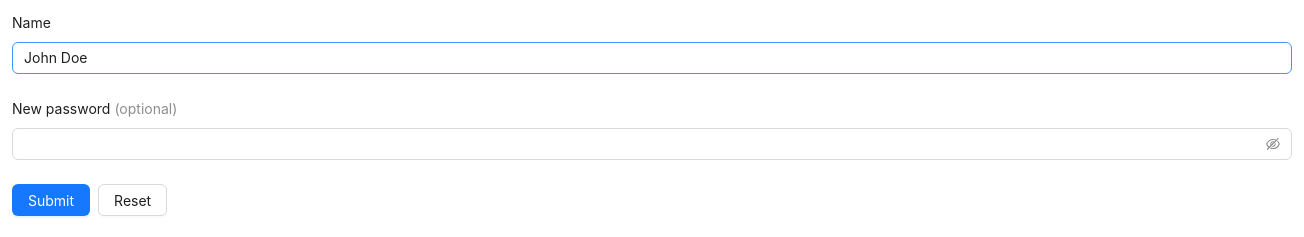
UserForm › resets the form
The image size is (1304, 237).
Replace the text in the field labelled "Name" with "Updated Name" at (652, 58), box [12, 42, 1292, 74]
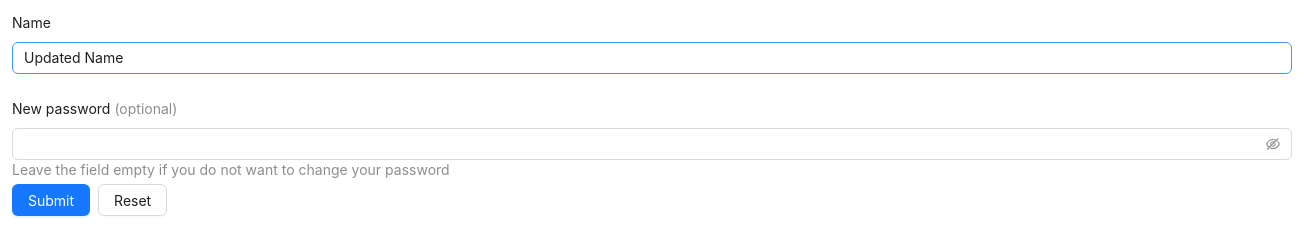
Click the button "Reset" at (133, 200), box [98, 184, 167, 216]
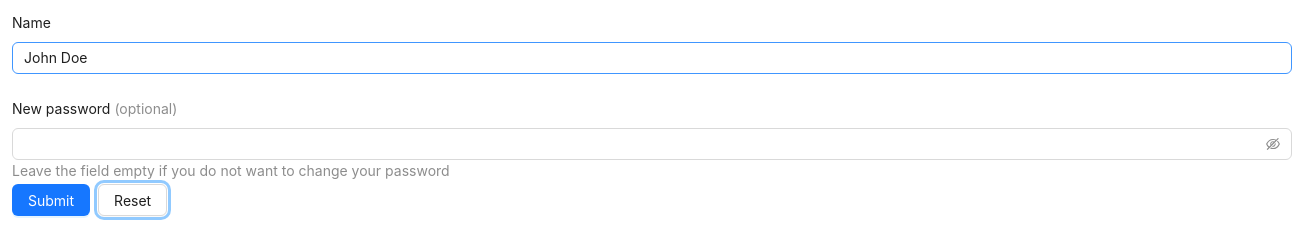
Check: the field showing "John Doe" is shown, box [12, 42, 1292, 74]
